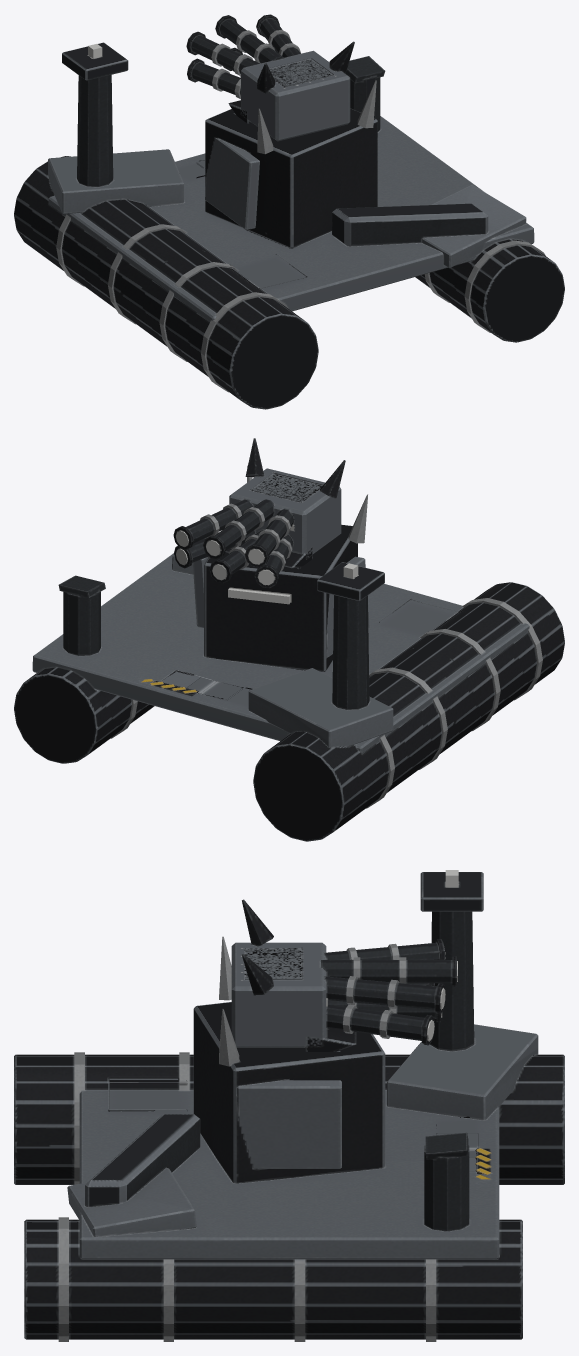
File: chs_scylla.fbx
3 renders of one model, top to bottom at view 1: azimuth 30°, elevation 25°; view 2: azimuth 150°, elevation 25°; view 3: azimuth 270°, elevation 25°, orthographic. The views are drawn at different scales.
Visible parts, largest first — view 1: base_bar, launcher_bar; view 2: base_bar, launcher_bar, launcher_glow_weapon_bar, base_glow_head_bar; view 3: base_bar, launcher_bar.
Boxes of the visible parts, <box> form: base_bar: <box>14,42,564,409</box>; launcher_bar: <box>186,14,354,141</box>; base_bar: <box>14,465,564,841</box>; launcher_bar: <box>173,438,345,588</box>; launcher_glow_weapon_bar: <box>176,530,274,585</box>; base_glow_head_bar: <box>228,588,290,604</box>; base_bar: <box>14,872,564,1341</box>; launcher_bar: <box>231,899,456,1051</box>.
Bounding box in the file's own units: 1916 × 1392 × 2100.
Materials: 2 (2 with a texture image).
